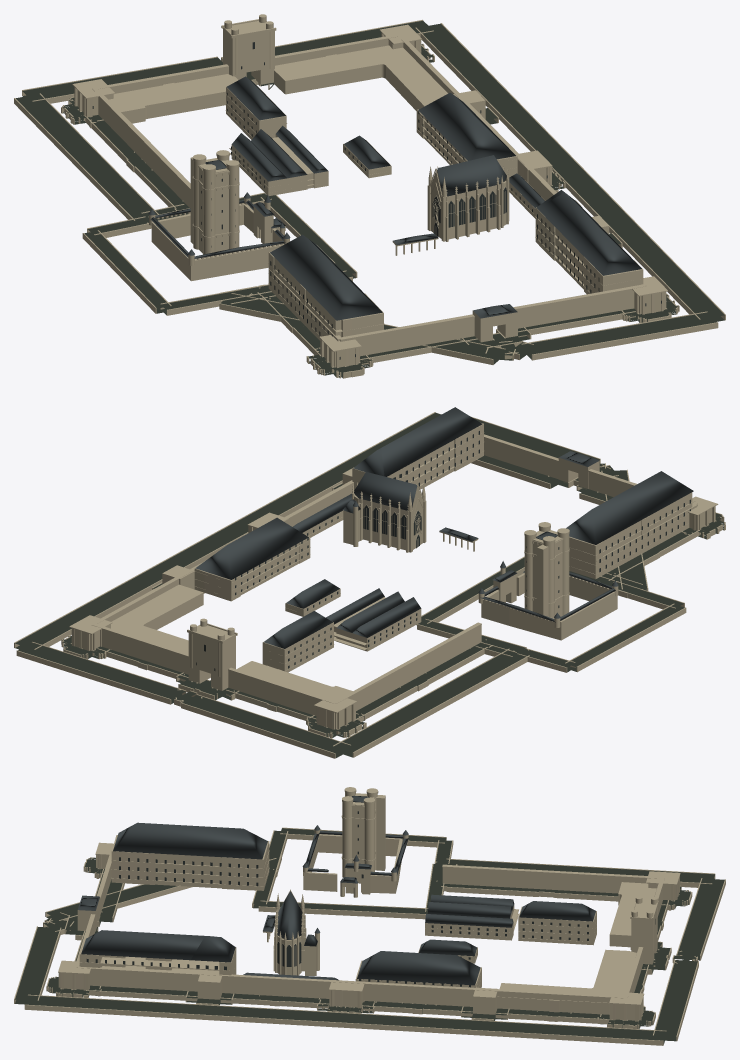
The model's file is chateau-de-vincennes-near.glb.
3 views of the same model, one above another, from view 1: azimuth 30°, elevation 25°; view 2: azimuth 150°, elevation 25°; view 3: azimuth 270°, elevation 25° (orthographic). The views are drawn at different scales.
Parts seen in each view (by area): view 1: chateau-de-vincennes-0-stone, chateau-de-vincennes-0-moat, chateau-de-vincennes-0-roof, chateau-de-vincennes-0-glass; view 2: chateau-de-vincennes-0-stone, chateau-de-vincennes-0-moat, chateau-de-vincennes-0-roof, chateau-de-vincennes-0-glass; view 3: chateau-de-vincennes-0-stone, chateau-de-vincennes-0-moat, chateau-de-vincennes-0-roof, chateau-de-vincennes-0-glass.
Boxes of the visible parts, x1,y1,x2,y2 form: chateau-de-vincennes-0-stone: (14,14,725,378); chateau-de-vincennes-0-moat: (16,21,724,377); chateau-de-vincennes-0-roof: (148,76,641,320); chateau-de-vincennes-0-glass: (92,42,661,359); chateau-de-vincennes-0-stone: (14,412,725,758); chateau-de-vincennes-0-moat: (15,412,724,757); chateau-de-vincennes-0-roof: (195,407,693,648); chateau-de-vincennes-0-glass: (196,431,690,670); chateau-de-vincennes-0-stone: (14,787,725,1045); chateau-de-vincennes-0-moat: (15,828,724,1044); chateau-de-vincennes-0-roof: (78,795,595,985); chateau-de-vincennes-0-glass: (86,811,657,987).
Size of the model in its own units: 306 by 54.9 by 432.
